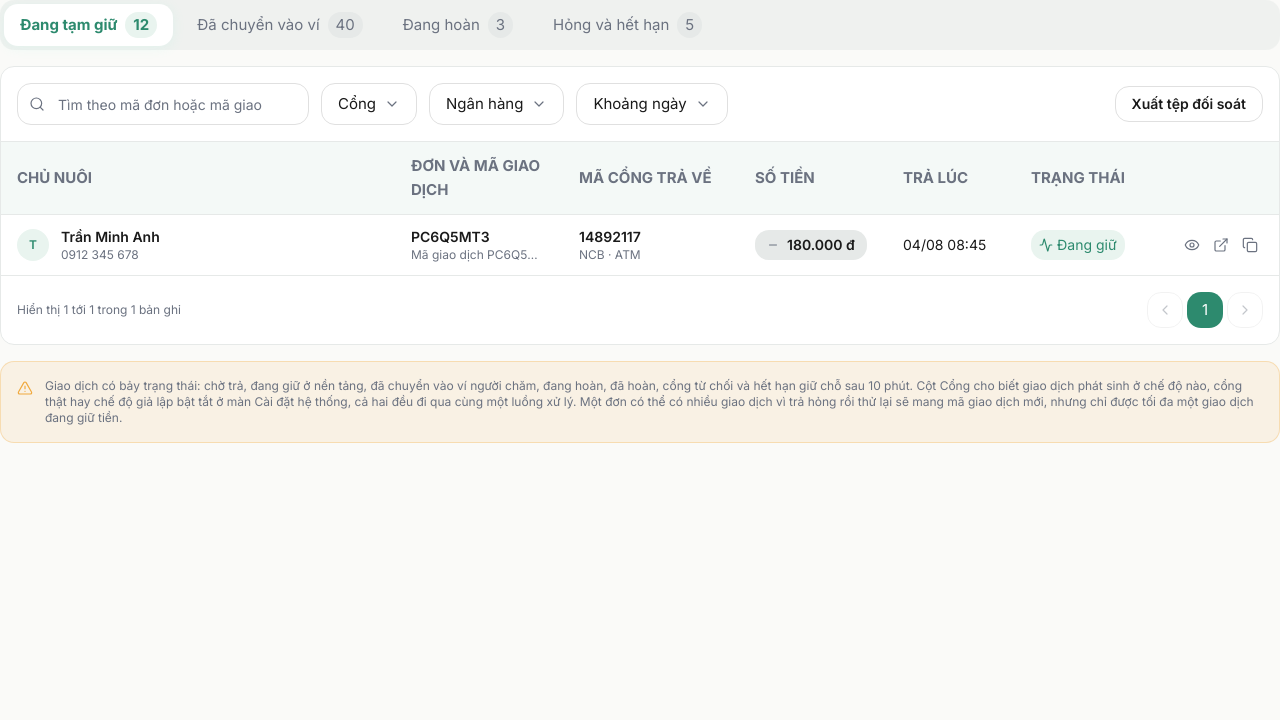
Test: Giao dịch thanh toán › mở được hộp thoại payload thô và không có nút nào đổi trạng thái
Expected: the text "Trần Minh Anh" is shown, [61,227,160,247]
Click the button named "Xem dữ liệu cổng trả về" at (1192, 245), box [1179,229,1204,261]
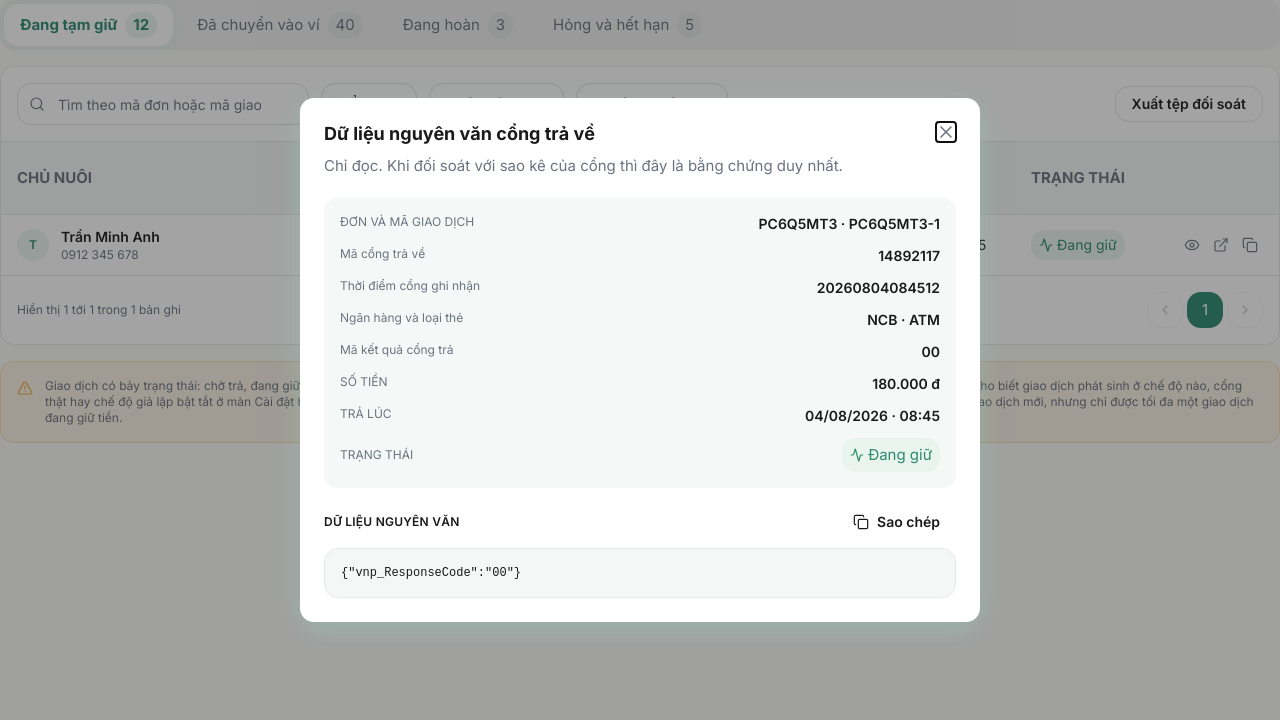
Expected: the text "{\"vnp_ResponseCode\":\"00\"}" is shown, [324,548,956,598]
Expected: the text "Mã kết quả cổng trả" is shown, [340,342,454,358]
